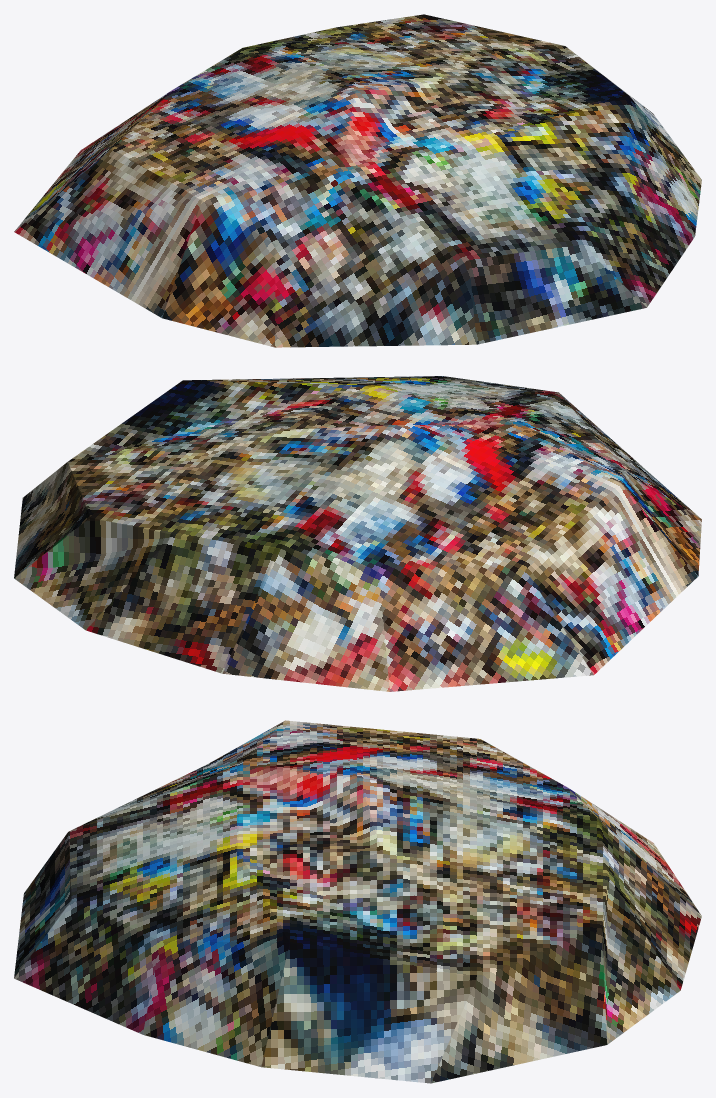
The model's file is trashpile_2.glb.
The picture shows the model from 3 angles, top to bottom: view 1: azimuth 30°, elevation 25°; view 2: azimuth 150°, elevation 25°; view 3: azimuth 270°, elevation 25°; orthographic projection. The views are drawn at different scales.
Parts seen in each view (by area): view 1: trashpile_2; view 2: trashpile_2; view 3: trashpile_2.
Part boxes in pixels (<box>): trashpile_2: <box>14,14,701,347</box>; trashpile_2: <box>14,376,701,691</box>; trashpile_2: <box>14,720,701,1083</box>.
Size of the model in its own units: 0.8305 by 0.1701 by 0.7804.
Materials: 1 (1 with a texture image).
